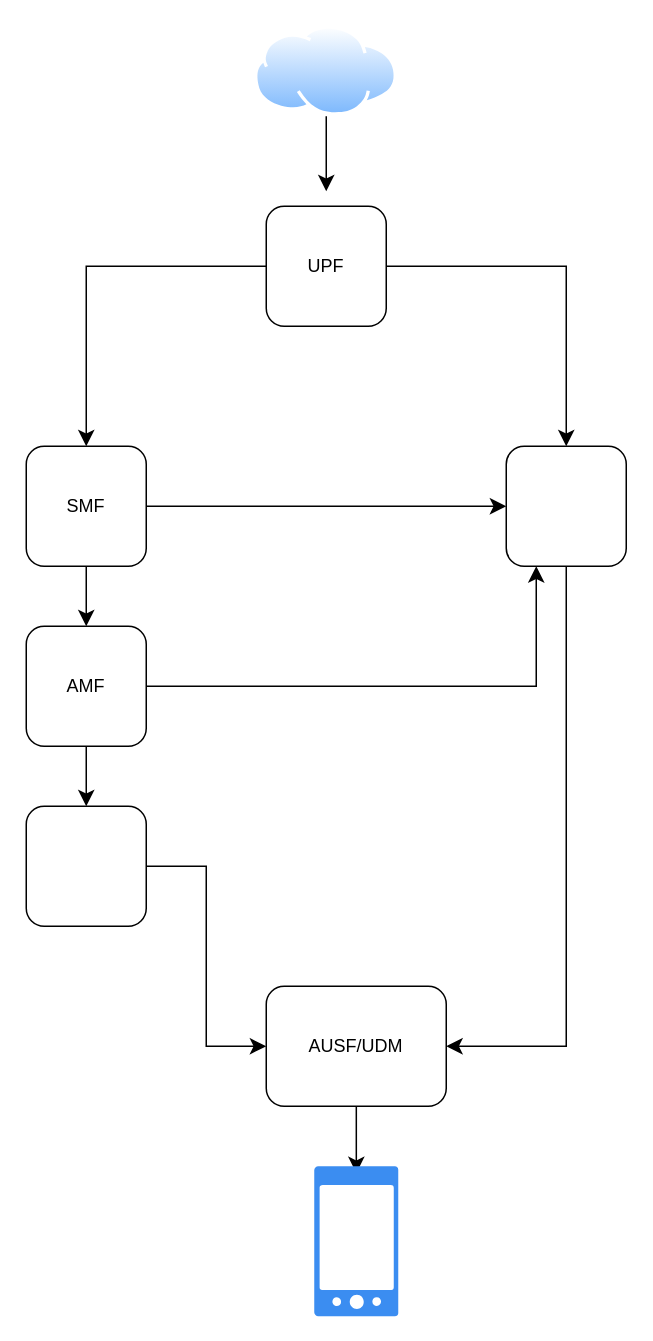
Image size: 653x1341. Some labels were removed from this diagram. The centre of each missing label's shape, as x and y in pixels:
"gNB" goes at point 565,505.
"NRF" goes at point 85,865.
